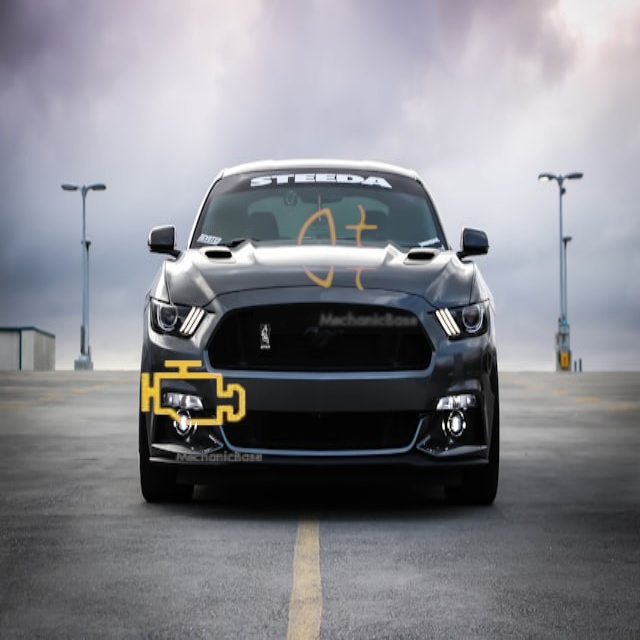symbol: (253, 163, 424, 334), (117, 318, 268, 469)
